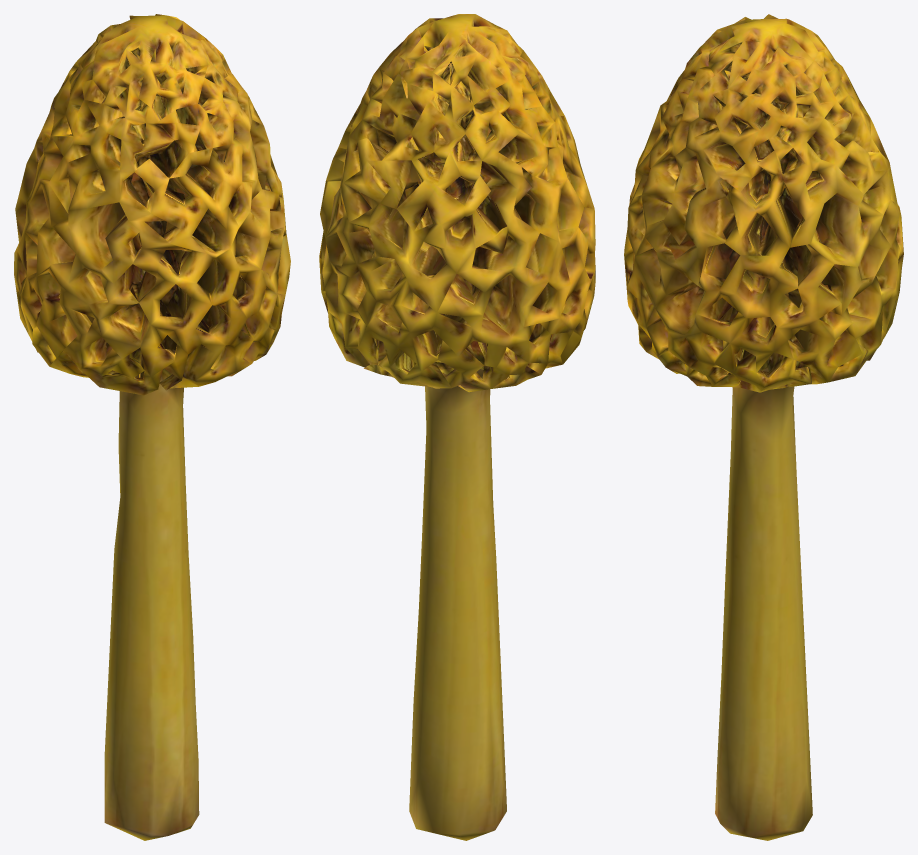
File: mush-02-yellowmorel.glb
The picture shows the model from 3 angles, left to right: view 1: azimuth 30°, elevation 25°; view 2: azimuth 150°, elevation 25°; view 3: azimuth 270°, elevation 25°; orthographic projection.
Visible parts, largest first — view 1: Mesh1.0; view 2: Mesh1.0; view 3: Mesh1.0.
Part boxes in pixels (left/top/right/bottom): Mesh1.0: left=14, top=14, right=290, bottom=840; Mesh1.0: left=319, top=14, right=595, bottom=840; Mesh1.0: left=624, top=14, right=903, bottom=840.
Bounding box in the file's own units: 0.6043 × 1.91 × 0.6045.
1 material, 1 textured.
